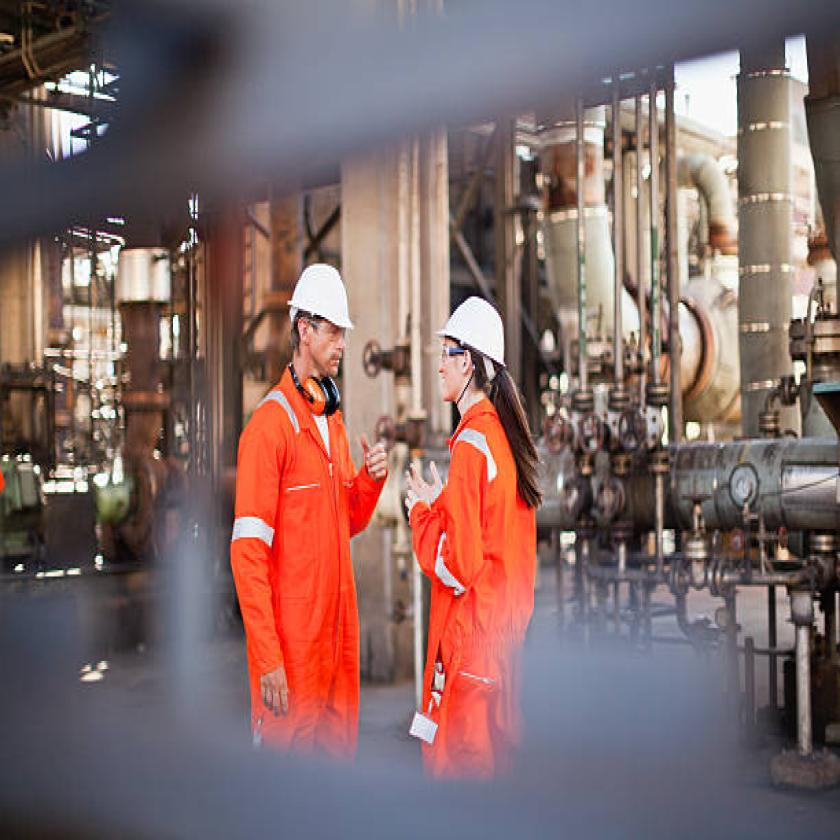Con_casco: (285, 247, 364, 412), (431, 277, 517, 418)
